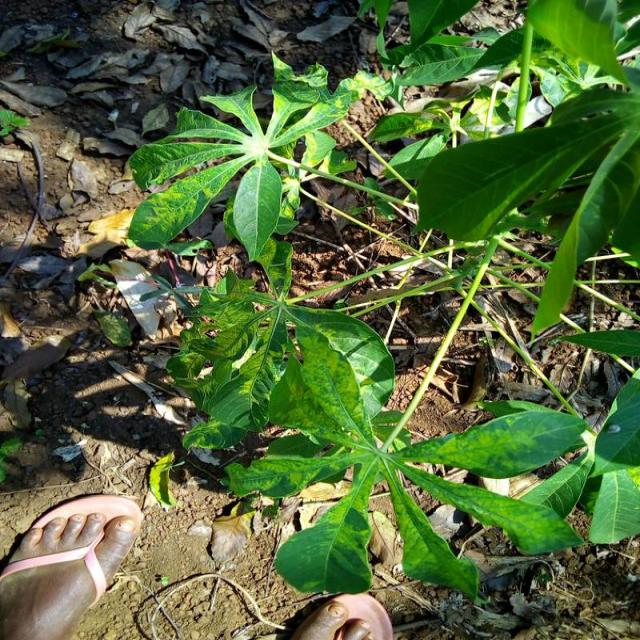cassava leaf: (126, 49, 364, 262), (414, 85, 638, 242), (232, 157, 282, 263)
